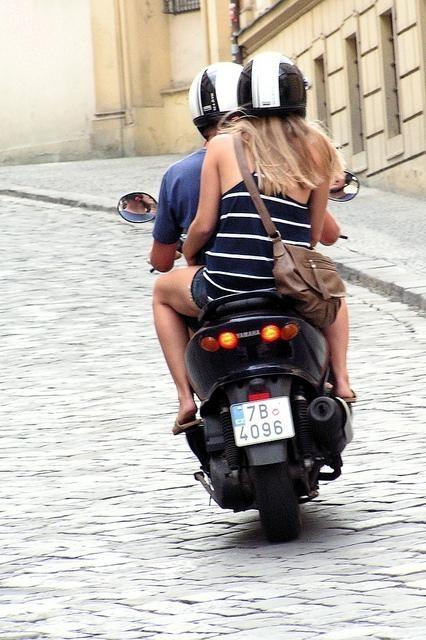motorcycle: (122, 173, 361, 545)
